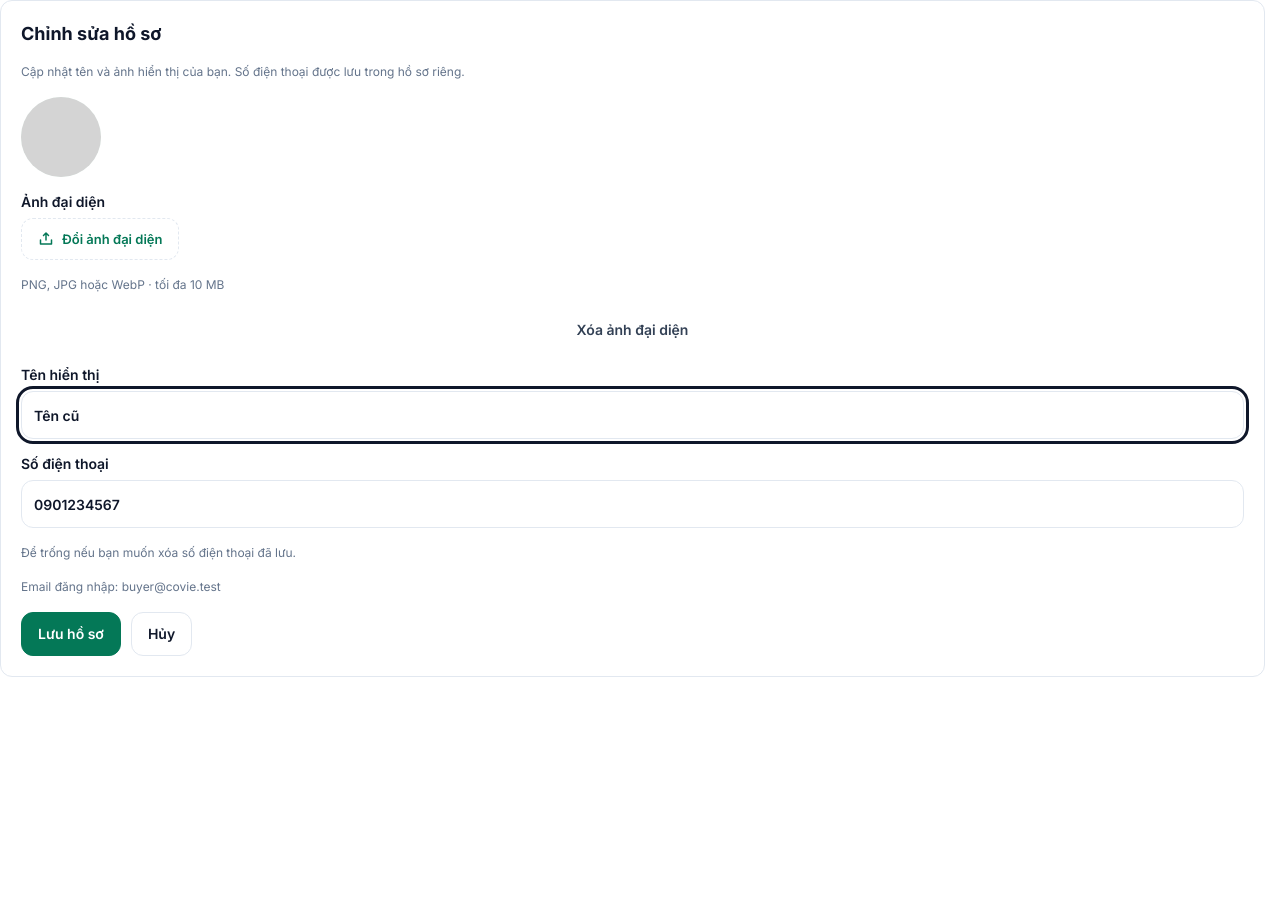
it: rejects invalid phone without changing the profile
The width and height of the screenshot is (1280, 900).
Replace the text in the field labelled "Số điện thoại" with "phone-invalid" at [632, 504], box [21,480,1244,528]
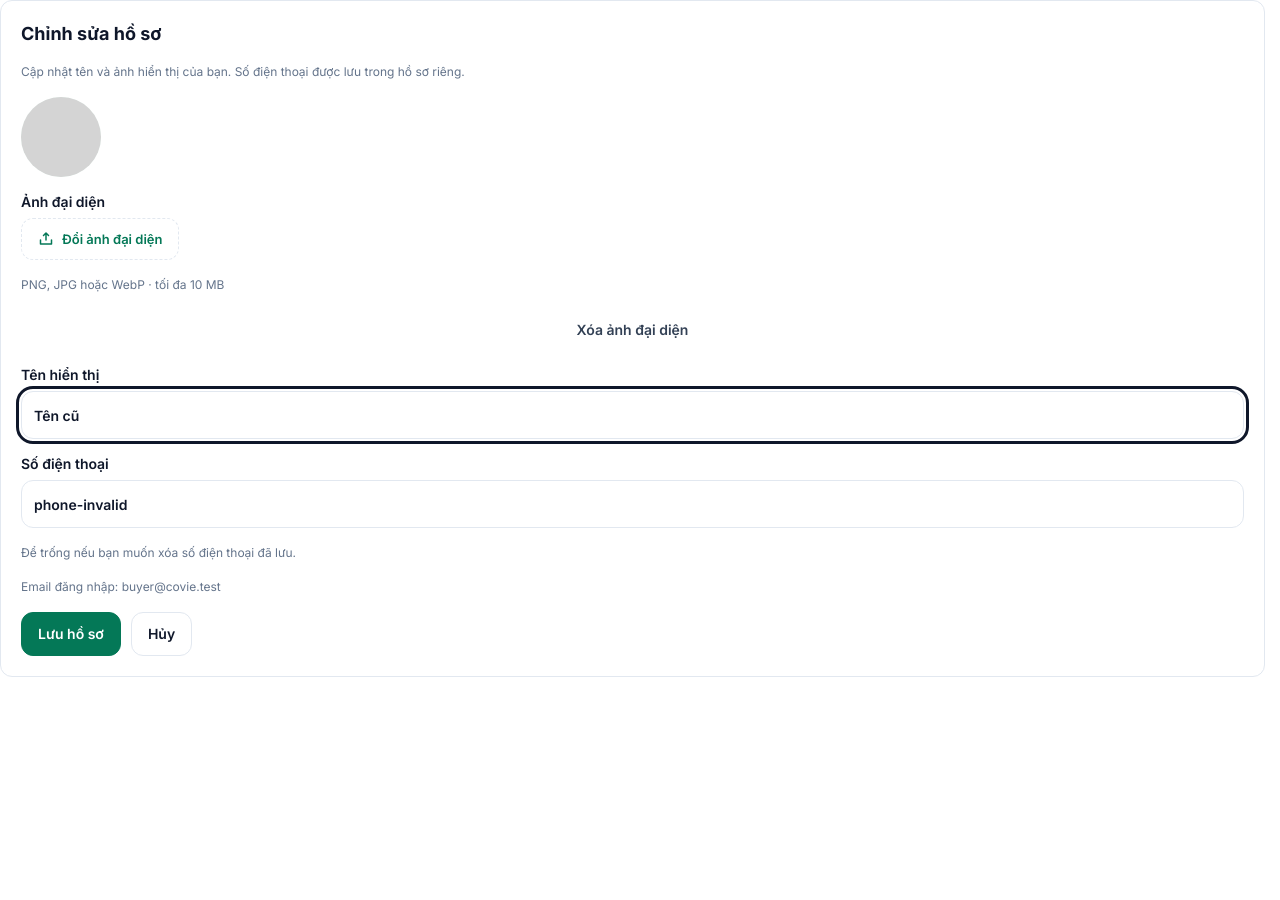
Submit the form "Chỉnh sửa hồ sơ"
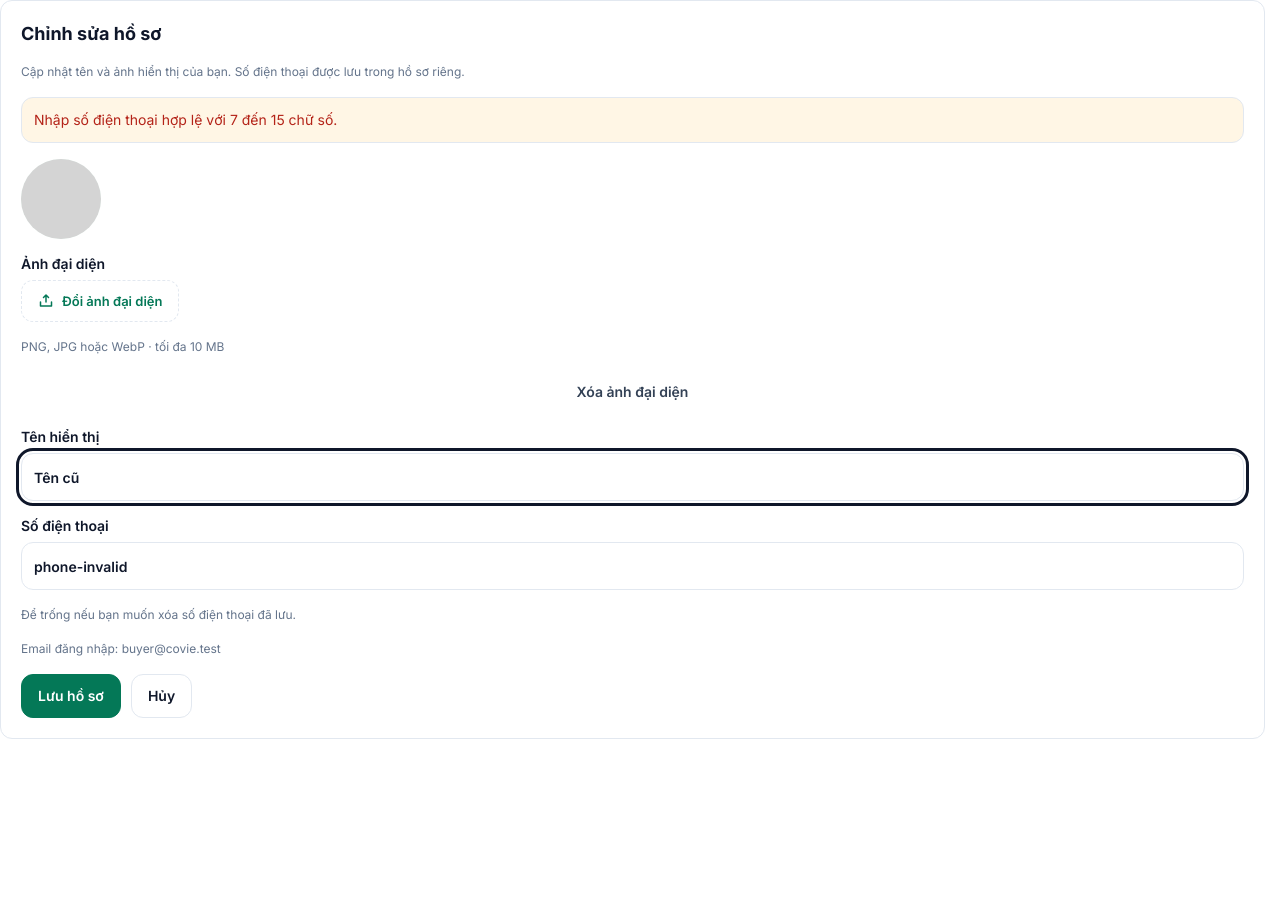
Result: the message shows "7 đến 15 chữ số" at [34,111,337,128]
